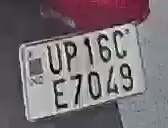0: (86, 70, 104, 101)
1: (83, 38, 95, 68)
4: (103, 66, 120, 97)
6: (94, 32, 111, 65)
7: (69, 73, 85, 107)
9: (118, 63, 137, 93)
C: (110, 28, 129, 62)
E: (50, 77, 70, 110)
P: (61, 41, 81, 72)
U: (42, 43, 63, 77)
